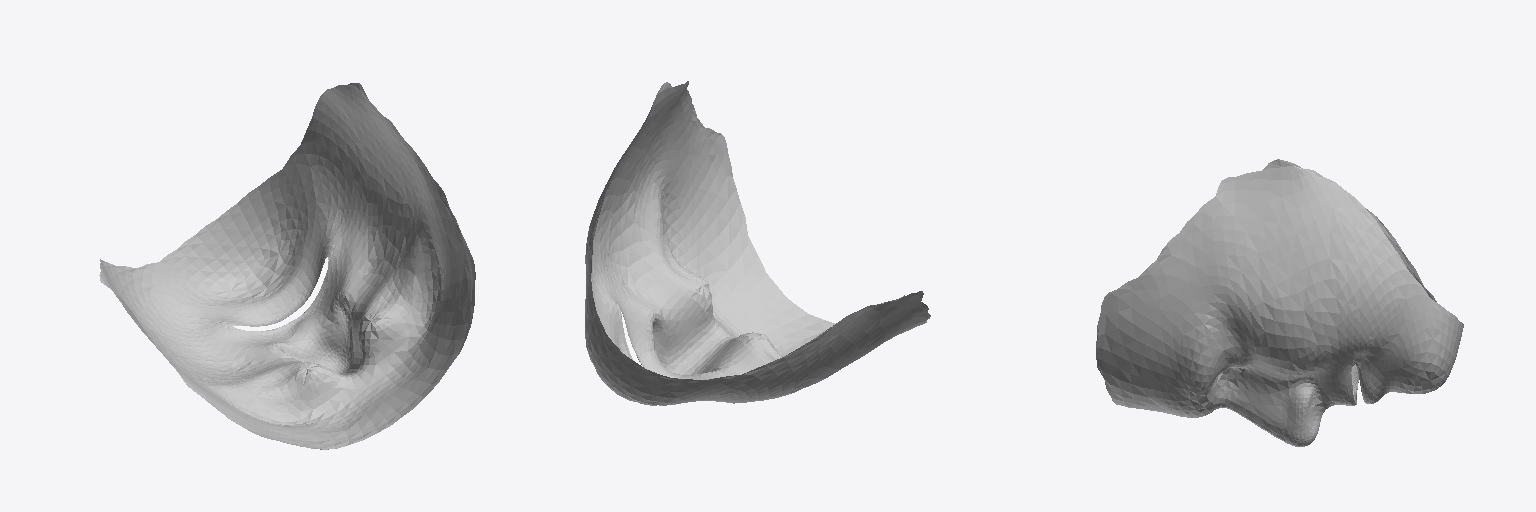
File: face_gab_sfm116.obj
3 views of the same model, side by side, from view 1: azimuth 30°, elevation 25°; view 2: azimuth 150°, elevation 25°; view 3: azimuth 270°, elevation 25° (orthographic).
Size of the model in its own units: 165 by 160 by 182.